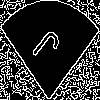J: (25, 25, 62, 75)
